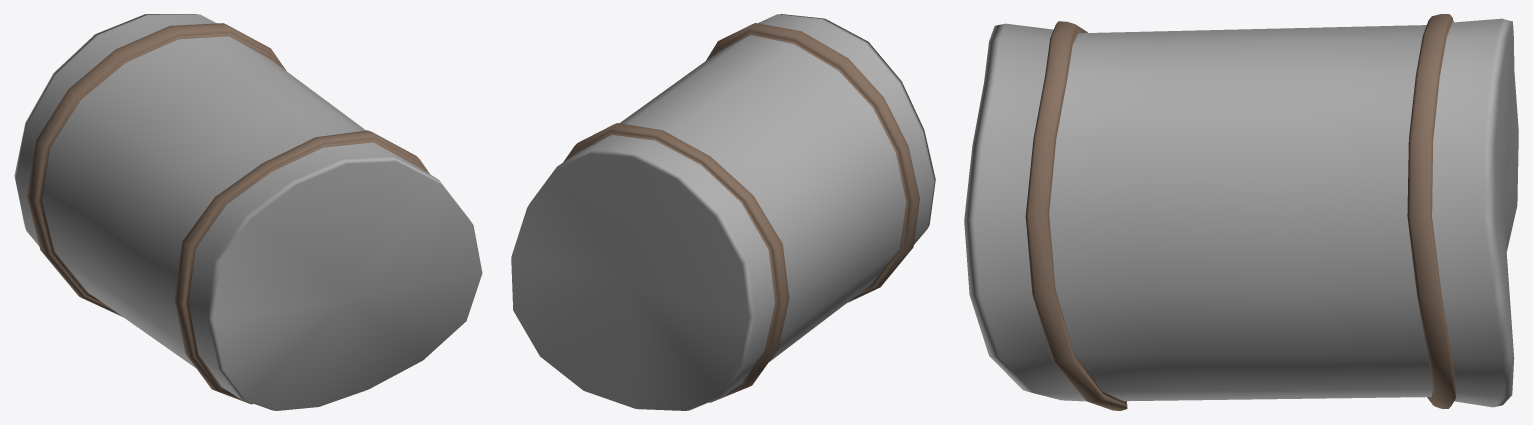
The model's file is SM_Haybale_Var1.fbx.
The picture shows the model from 3 angles, left to right: view 1: azimuth 30°, elevation 25°; view 2: azimuth 150°, elevation 25°; view 3: azimuth 270°, elevation 25°; orthographic projection. The views are drawn at different scales.
Parts seen in each view (by area): view 1: SM_Haybale_Var1; view 2: SM_Haybale_Var1; view 3: SM_Haybale_Var1.
Boxes of the visible parts, x1,y1,x2,y2 form: SM_Haybale_Var1: (14, 14, 482, 410); SM_Haybale_Var1: (511, 14, 935, 410); SM_Haybale_Var1: (964, 14, 1518, 410).
Size of the model in its own units: 56.12 by 55.18 by 76.92.
